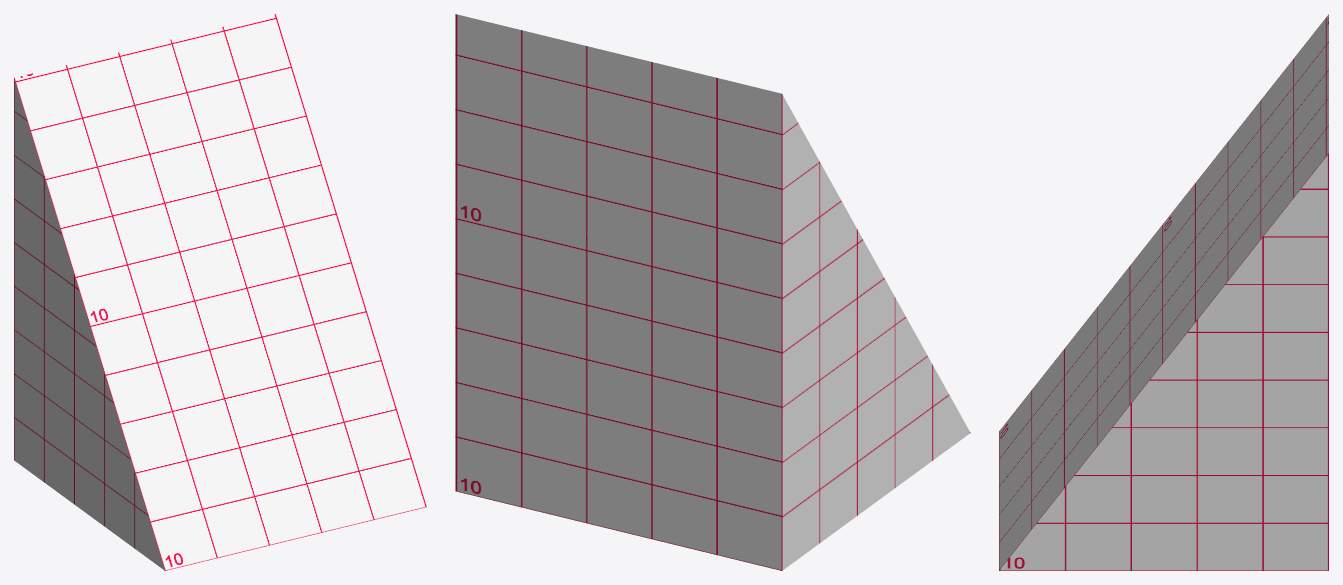
Rendered from Mesh_Slope_5x5_60.fbx.
3 renders of one model, left to right at view 1: azimuth 30°, elevation 25°; view 2: azimuth 150°, elevation 25°; view 3: azimuth 270°, elevation 25°, orthographic. The views are drawn at different scales.
Parts seen in each view (by area): view 1: Cube; view 2: Cube; view 3: Cube.
Part boxes in pixels (box(x1,y1,x2,y2)): Cube: box(14, 14, 426, 570); Cube: box(455, 14, 970, 570); Cube: box(999, 14, 1328, 570).
Size of the model in its own units: 500 by 698 by 500.
